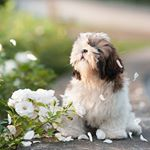puppy: (62, 30, 146, 143)
